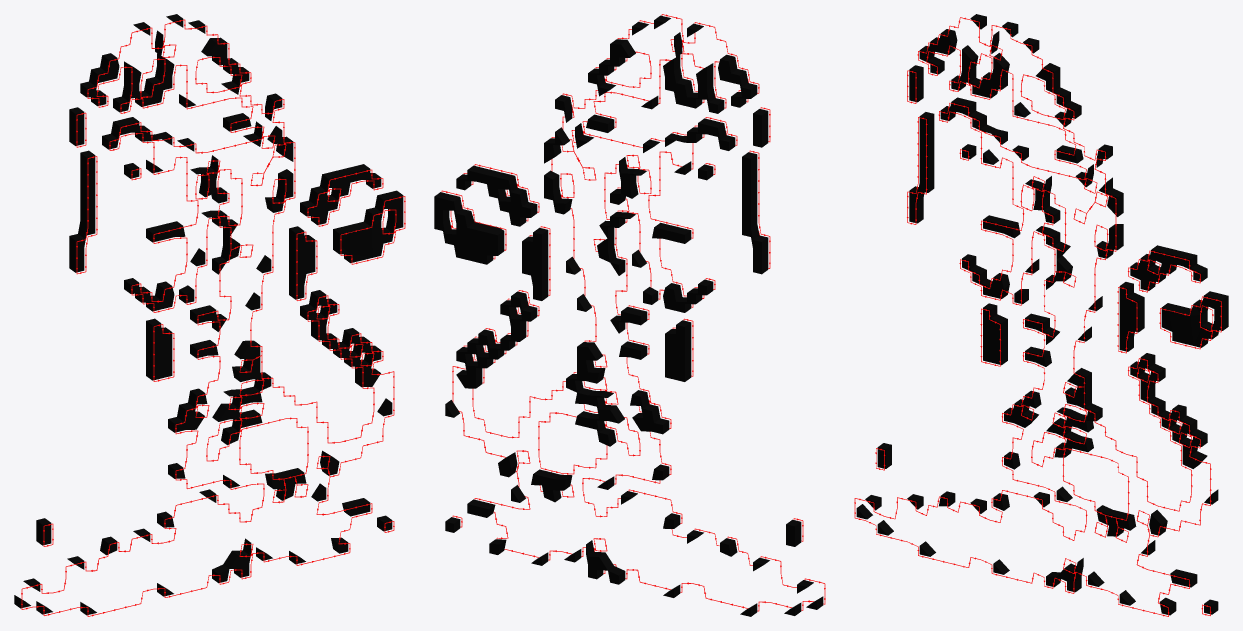
Rendered from SearchTriangulationError.glb.
3 views of the same model, side by side, from view 1: azimuth 30°, elevation 25°; view 2: azimuth 150°, elevation 25°; view 3: azimuth 330°, elevation 25° (orthographic). The views are drawn at different scales.
Size of the model in its own units: 0.7024 by 1 by 0.0268.
